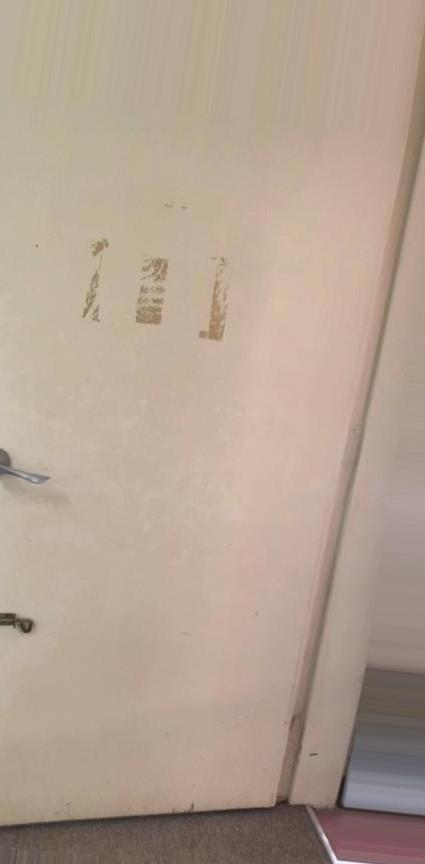door: (0, 0, 415, 818)
